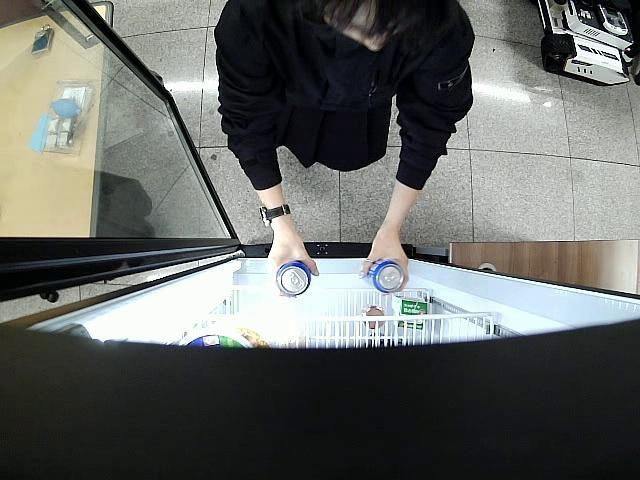13_pocariSweat: (362, 255, 404, 294), (274, 259, 311, 296)
